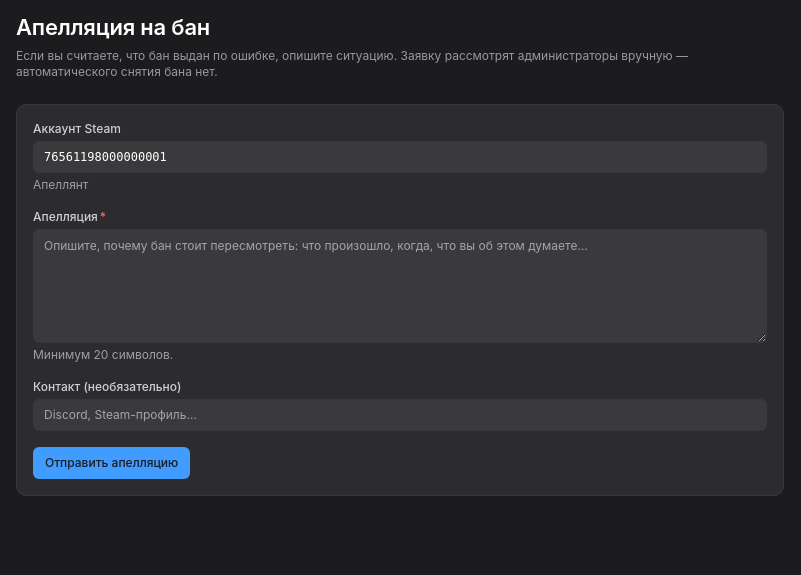
PublicAppealPage › reports an error instead of a broken tracking link when the 201 body is not an appeal
Expected: the field showing "76561198000000001" is shown, [33,141,767,173]
Replace the text in the text box with placeholder "Опишите, почему" with "Меня забанили по ошибке, прошу пересмотреть решение." at point(400, 286), box [33,229,767,343]
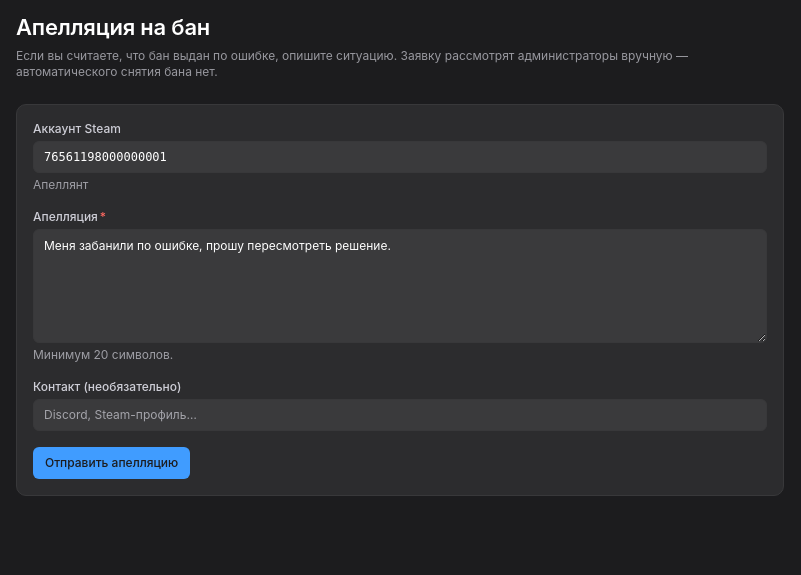
Click the button "Отправить апелляцию" at point(112, 463), box [33,447,190,479]
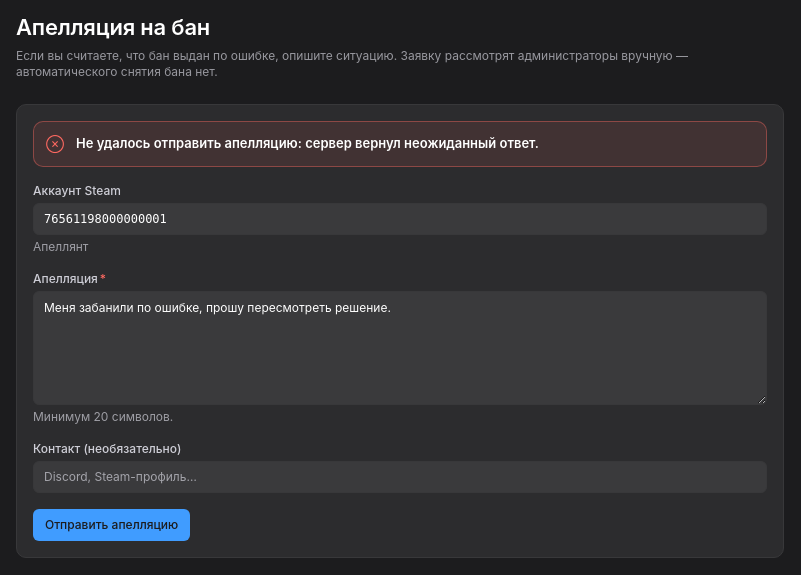
Expected: the text "Не удалось отправить апелляцию" is shown, [76,135,539,151]
